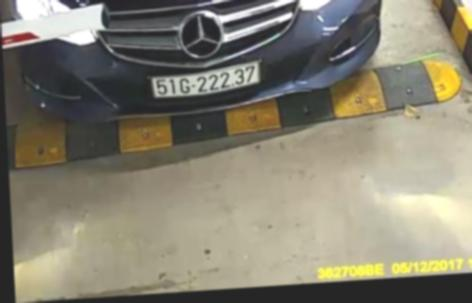License_Plate: (149, 58, 267, 100)
